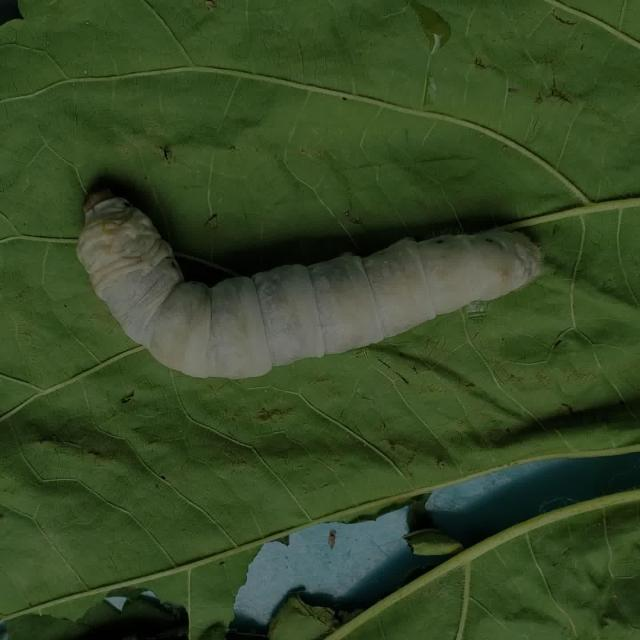Grasserie: (48, 147, 574, 409)
